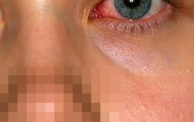SJS-TEN: (92, 29, 194, 122)
